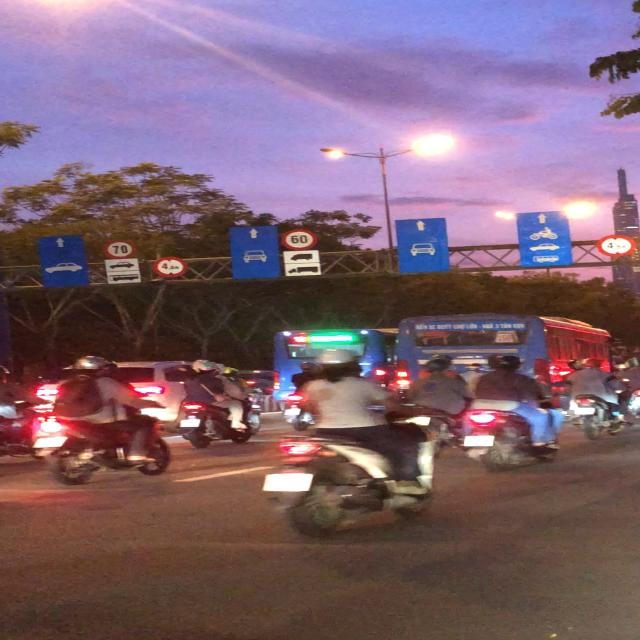Bien bao han che chieu cao: (594, 232, 638, 259), (147, 254, 189, 280)
Bien bao toc do toi da cho phep: (280, 228, 322, 252), (101, 237, 138, 260)
